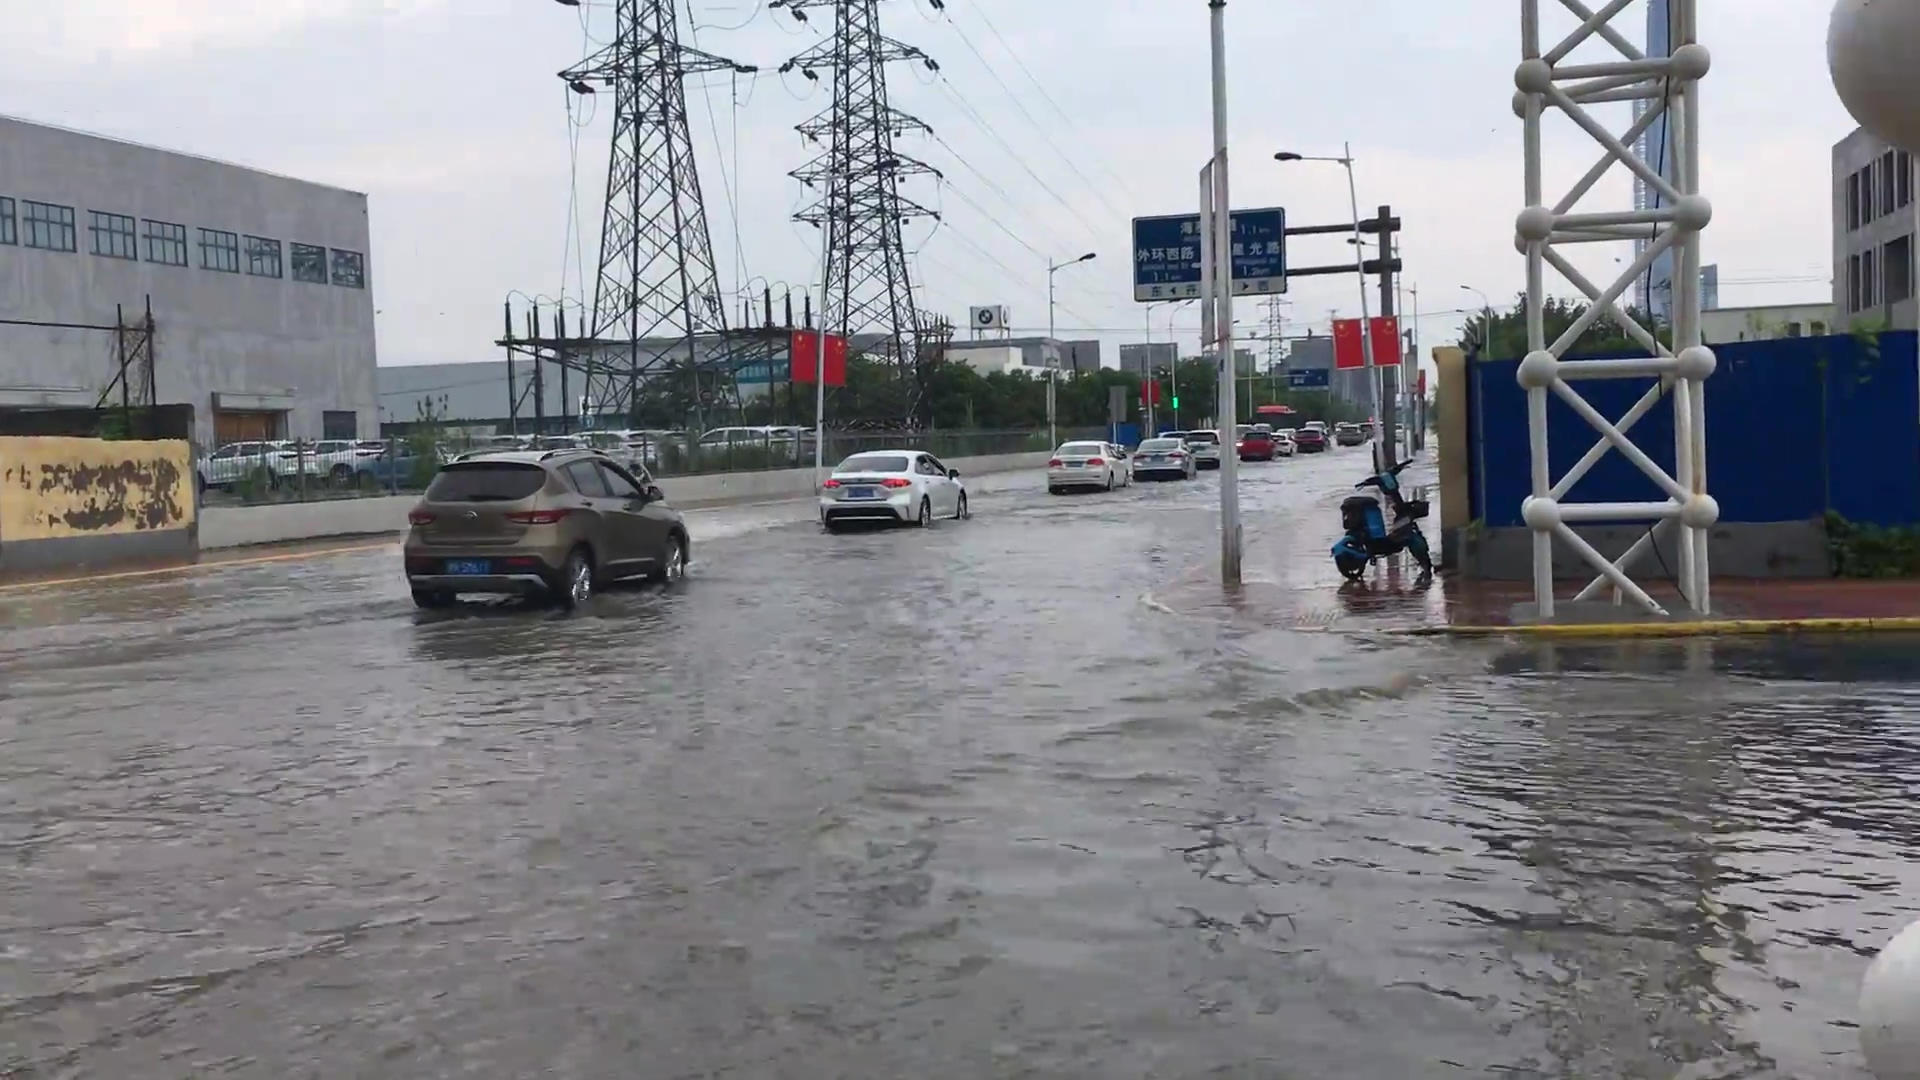puddle: (1, 550, 1912, 1080)
